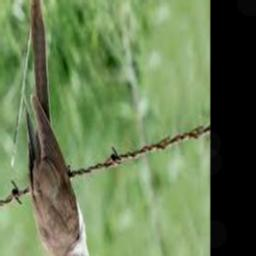Cuckoo: (25, 0, 100, 256)
